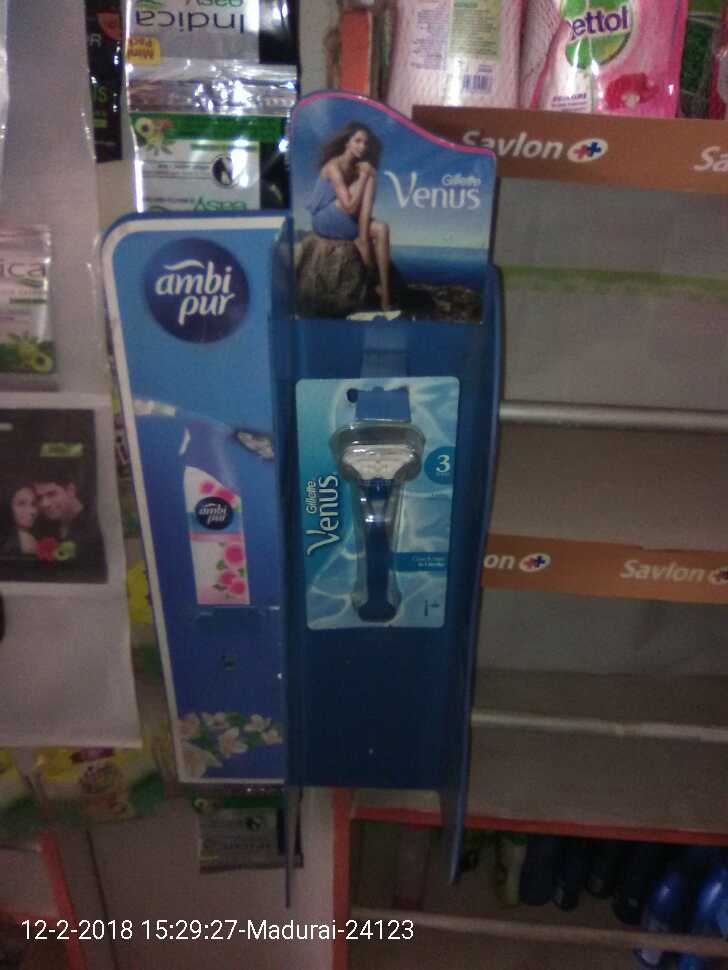venus: (288, 369, 472, 636)
